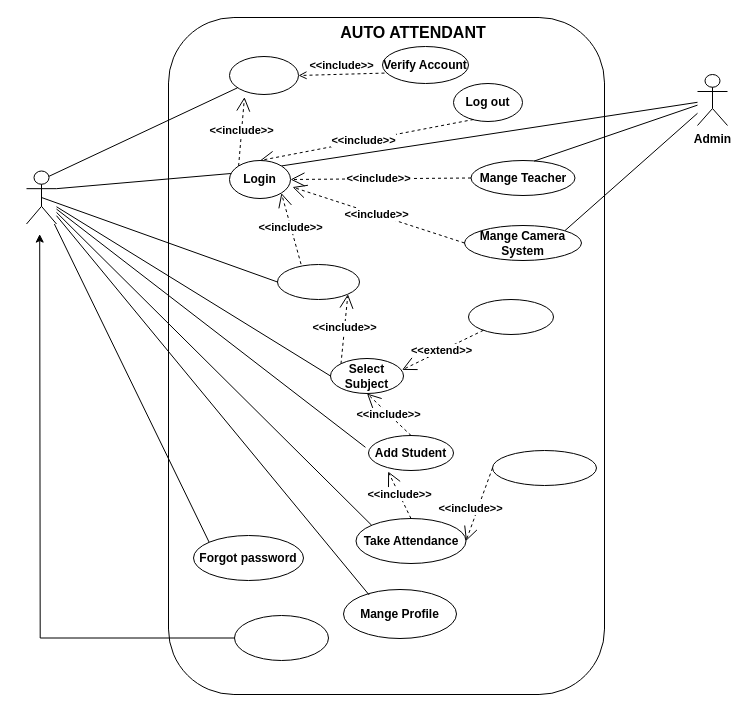
This 748x712 diagram has some shape labels left out. Each missing label, with the centre of its shape:
Add Subject: point 511,316
Lecturer: point 41,197
Save to end class: point 544,468
Select Room: point 318,282
Sign Up: point 263,75
View History: point 281,637
